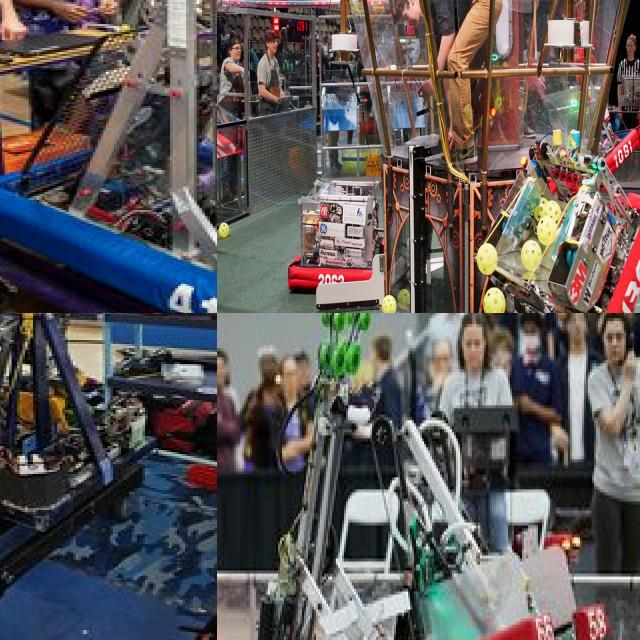FRC-Robots: (217, 313, 489, 640), (0, 0, 217, 313), (394, 392, 628, 640), (0, 313, 159, 522), (475, 146, 640, 313), (267, 134, 411, 312)
